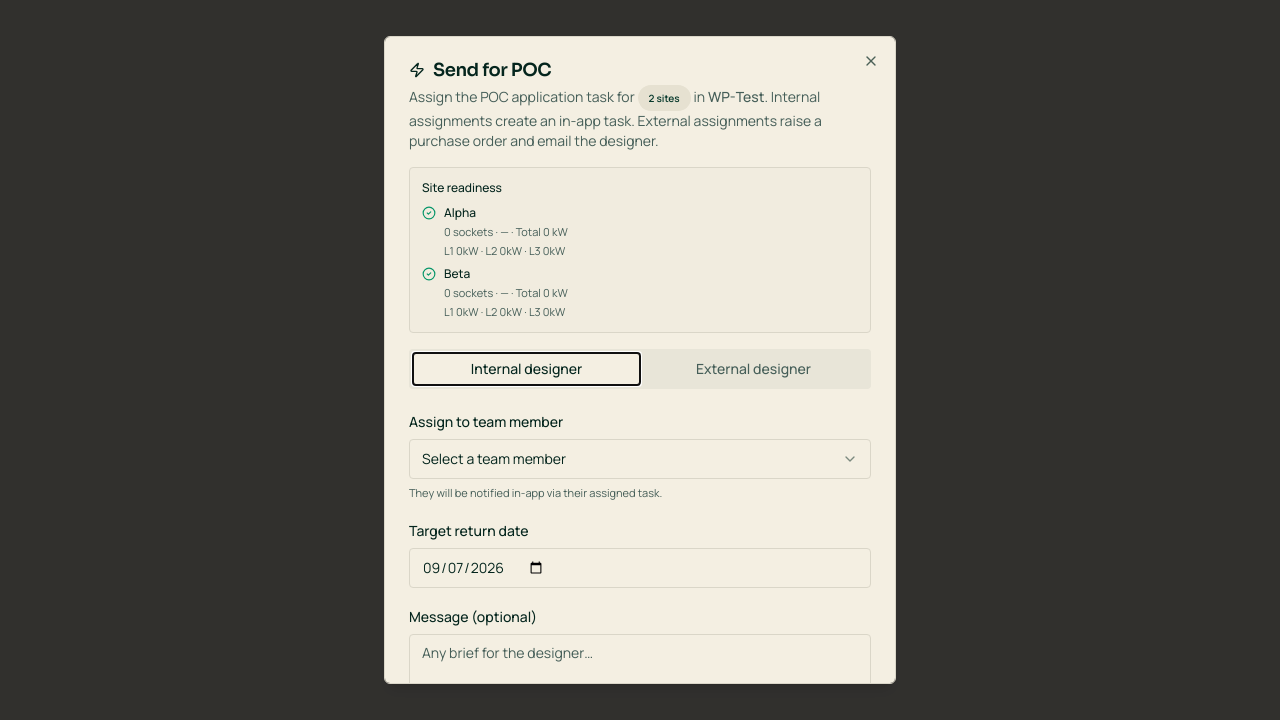
Test: SendForPocDialog › adminOnly=false skips PO fields entirely (legacy assign & email)
Later steps or results of the test are not shown.
Click the tab "External designer" at (754,369), box [640,353,867,385]
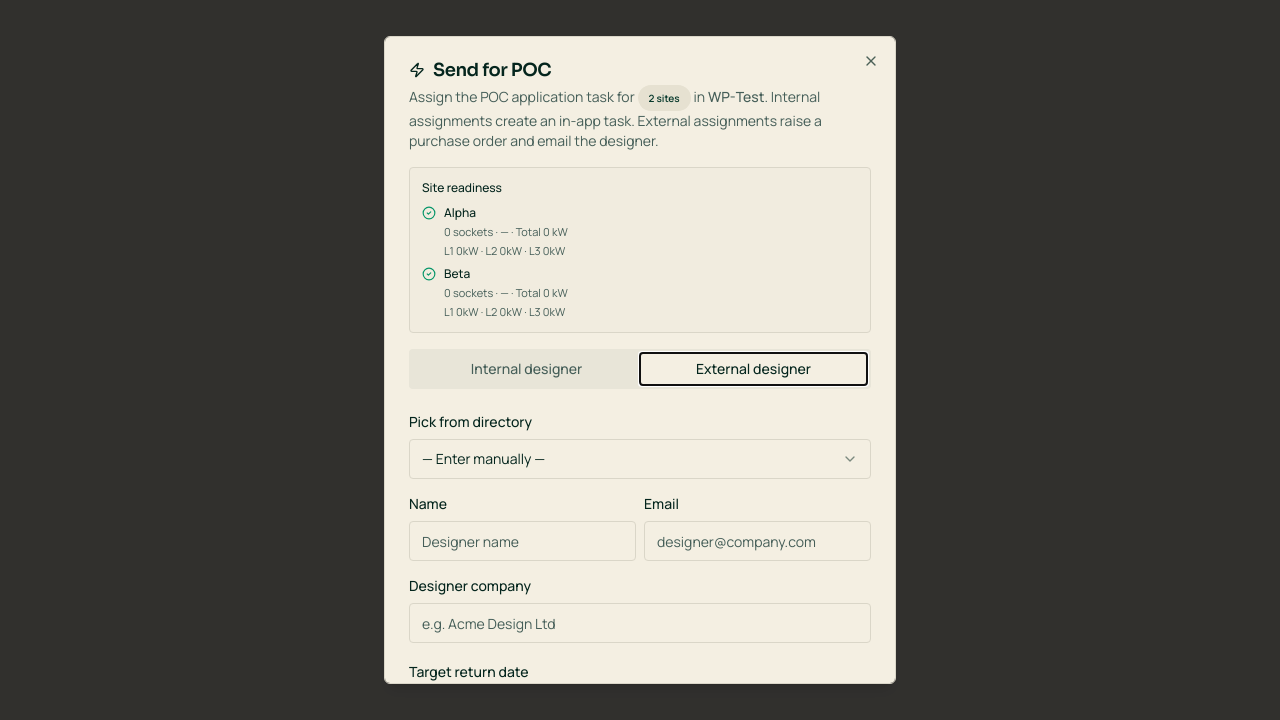
Type "d@x.com" into the field with placeholder "designer@company.com" at (758,541), box [644,521,871,561]
(page scrolled)
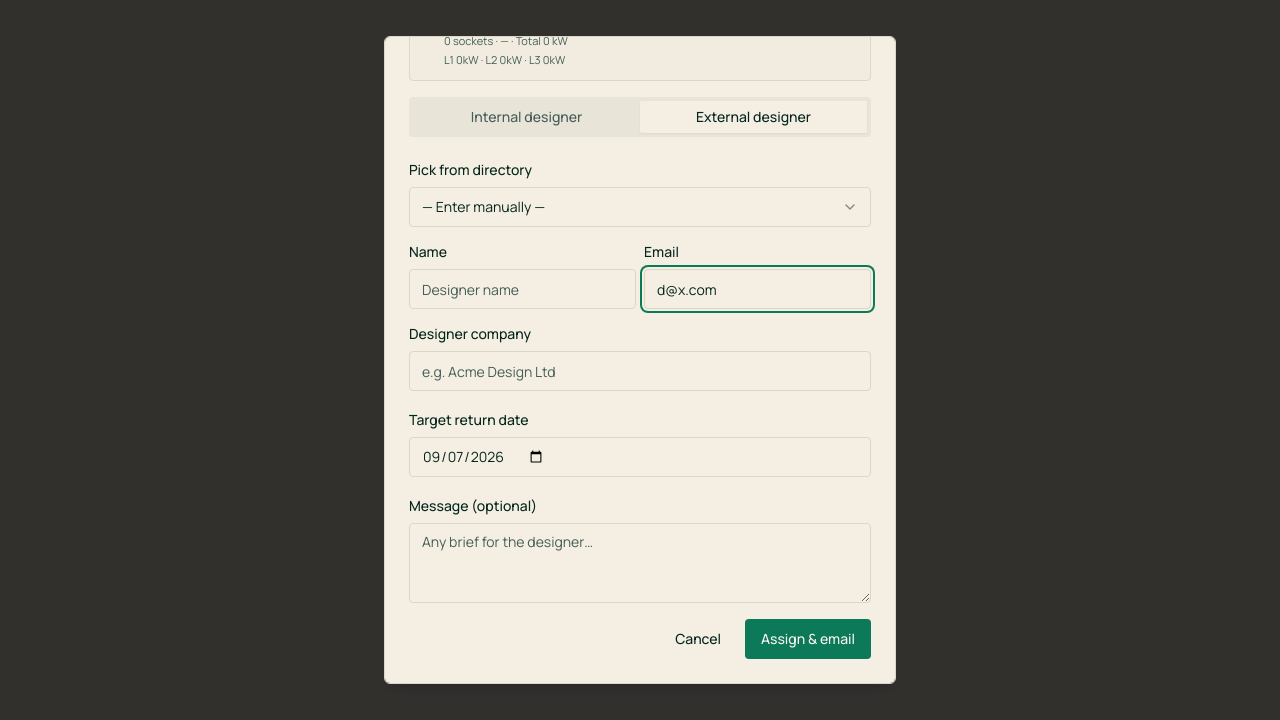
Click the button with test id "poc-next-btn" at (808,639), box [745,619,871,659]
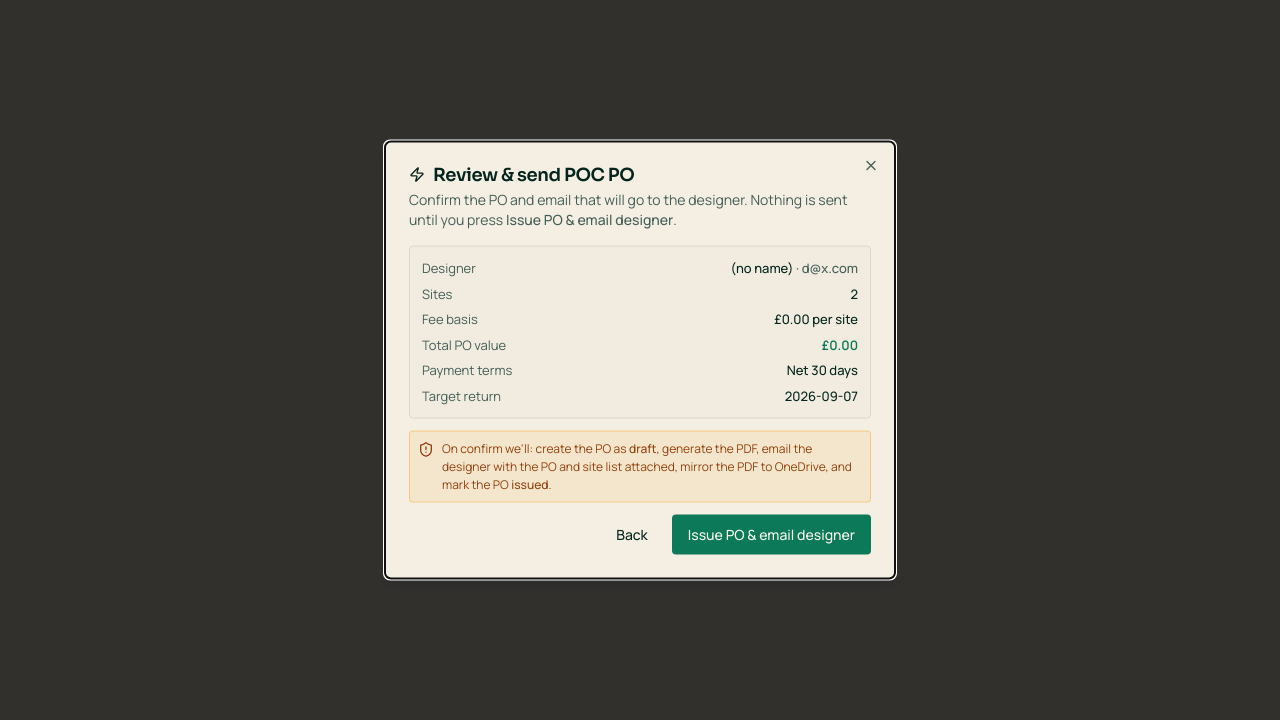
Now the element with test id "poc-review-step" is shown, box [409,246,871,554]
